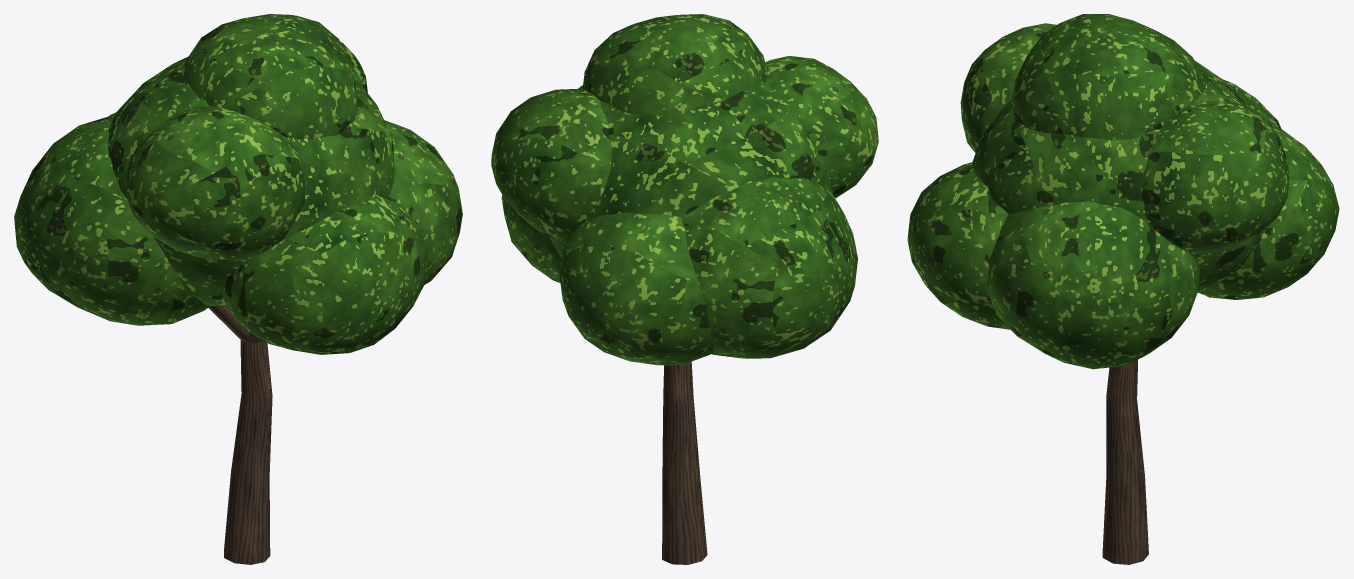
The model's file is ArbolTex.obj.
3 views of the same model, side by side, from view 1: azimuth 30°, elevation 25°; view 2: azimuth 150°, elevation 25°; view 3: azimuth 270°, elevation 25° (orthographic). The views are drawn at different scales.
Visible parts, largest first — view 1: ArbolTex; view 2: ArbolTex; view 3: ArbolTex.
Boxes of the visible parts, x1=… form: ArbolTex: x1=14, y1=14, x2=462, y2=564; ArbolTex: x1=491, y1=14, x2=878, y2=564; ArbolTex: x1=907, y1=14, x2=1339, y2=564.
Size of the model in its own units: 5.44 by 7.4 by 5.43.
2 materials, 2 textured.
